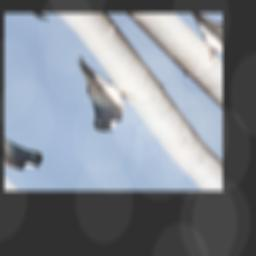Swallow: (46, 49, 150, 137)
